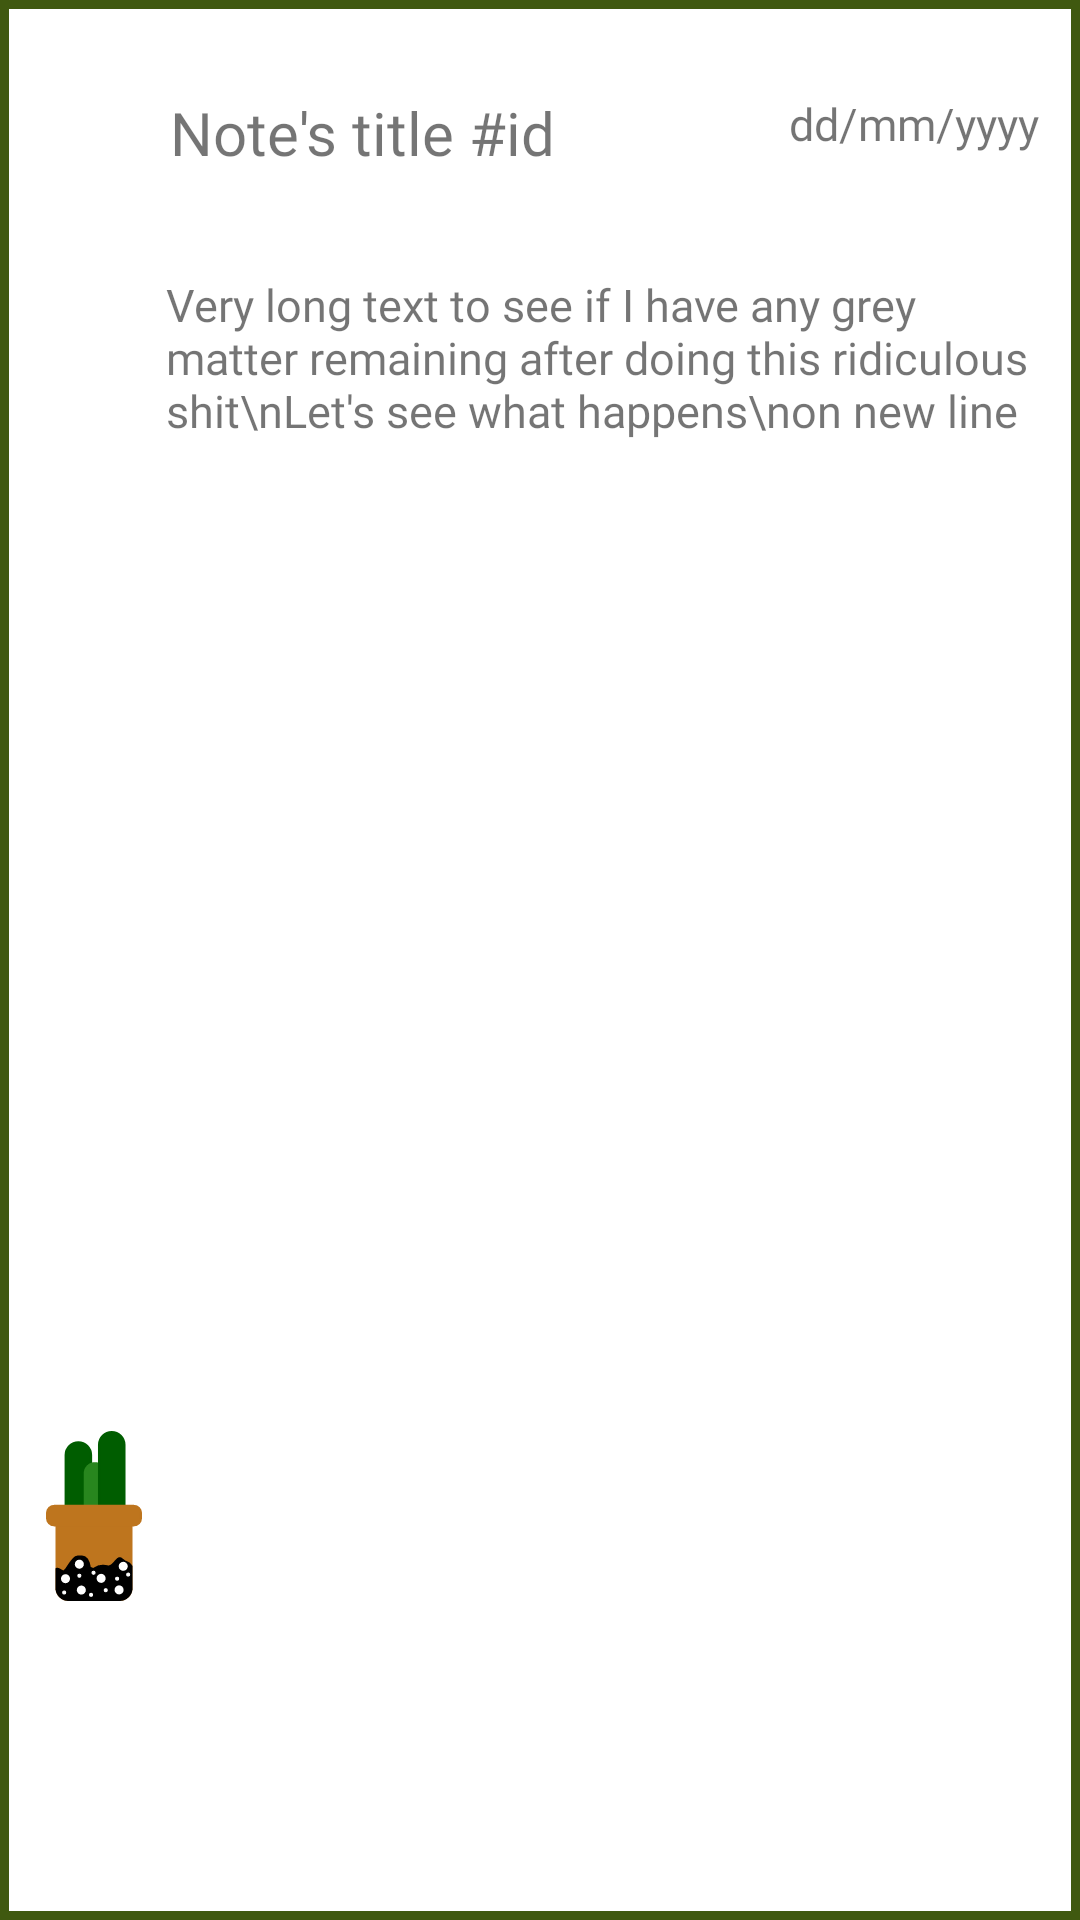

Where icons sit on this 1080w x 1920h app screen, as (x1, y1, x2, y2):
cactus: (46, 1431, 142, 1601)
